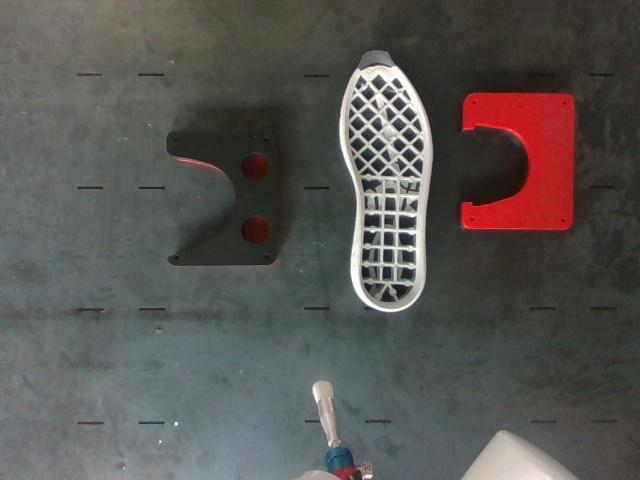shoes: (344, 51, 429, 311)
